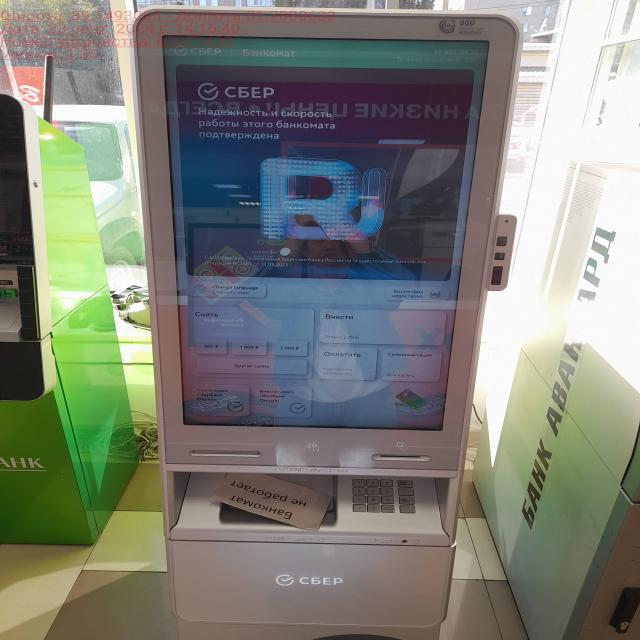bank: (135, 3, 512, 640), (0, 89, 112, 548)
